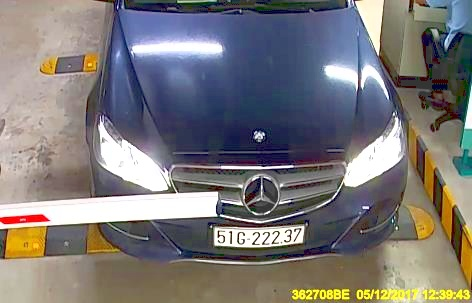plate: (208, 218, 307, 248)
